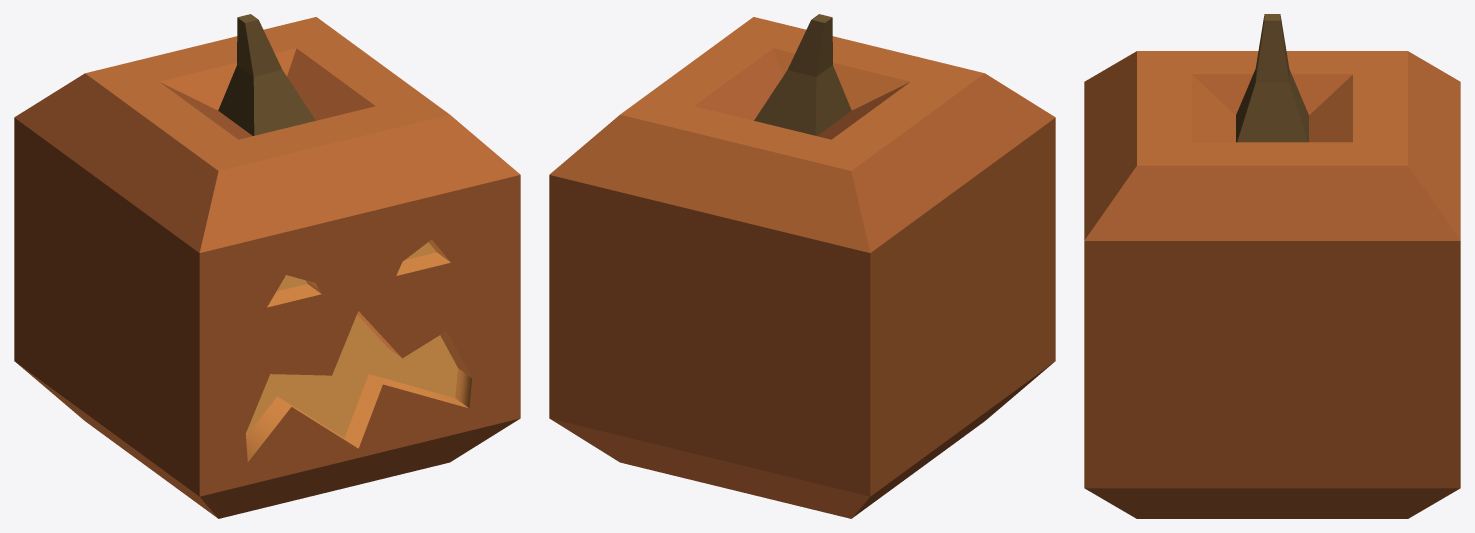
File: SC_Halloween_Pumpkin_03.fbx
3 renders of one model, left to right at view 1: azimuth 30°, elevation 25°; view 2: azimuth 150°, elevation 25°; view 3: azimuth 270°, elevation 25°, orthographic.
Parts seen in each view (by area): view 1: SC_Halloween_Pumpkin_03; view 2: SC_Halloween_Pumpkin_03; view 3: SC_Halloween_Pumpkin_03.
Part boxes in pixels (<box>): SC_Halloween_Pumpkin_03: <box>14,14,520,518</box>; SC_Halloween_Pumpkin_03: <box>549,14,1055,518</box>; SC_Halloween_Pumpkin_03: <box>1084,14,1460,518</box>.
Size of the model in its own units: 0.8719 by 1.11 by 0.8719.
